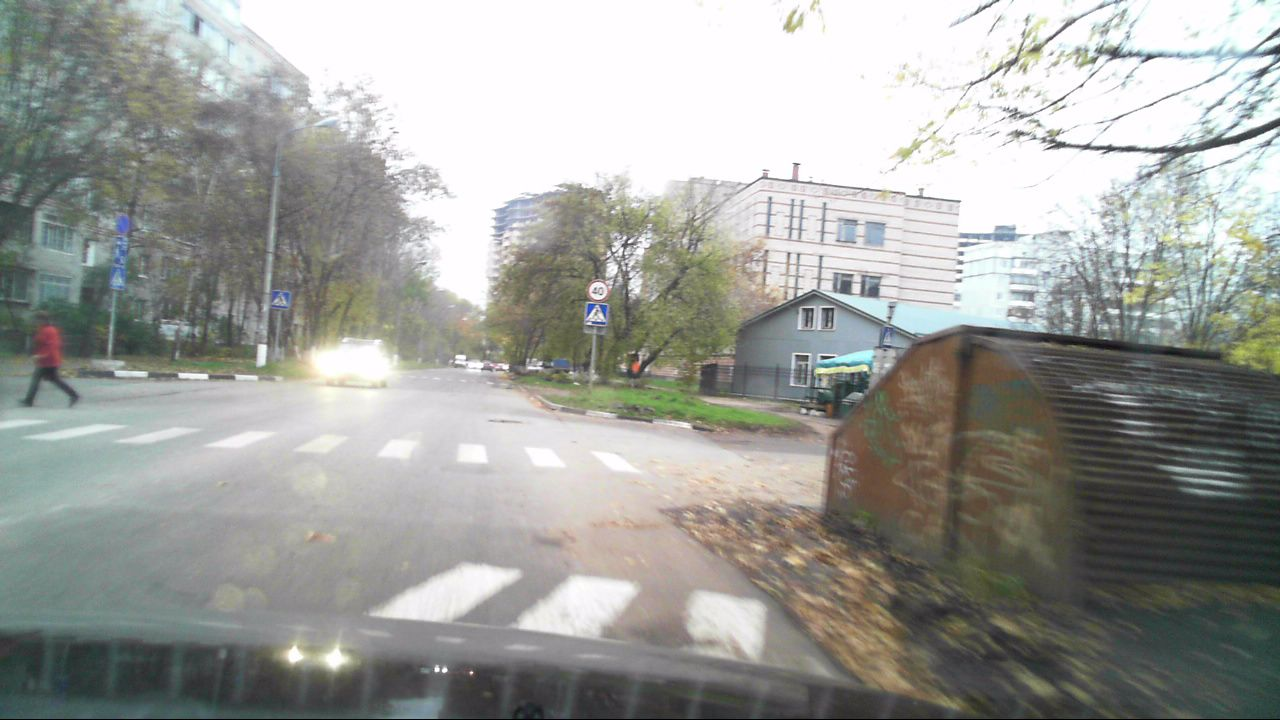speed_warning_40: (586, 279, 608, 302)
